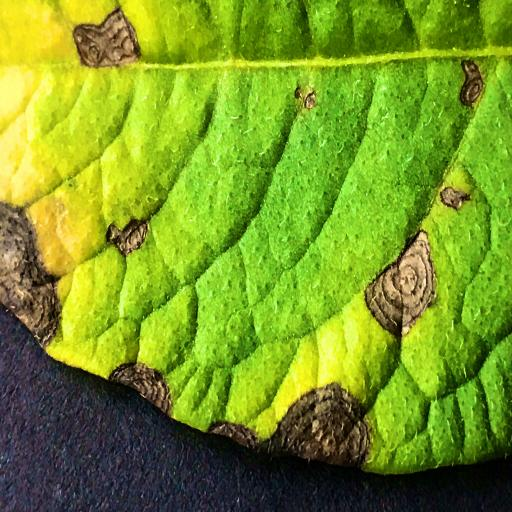disease_tomato: (0, 0, 512, 476)
